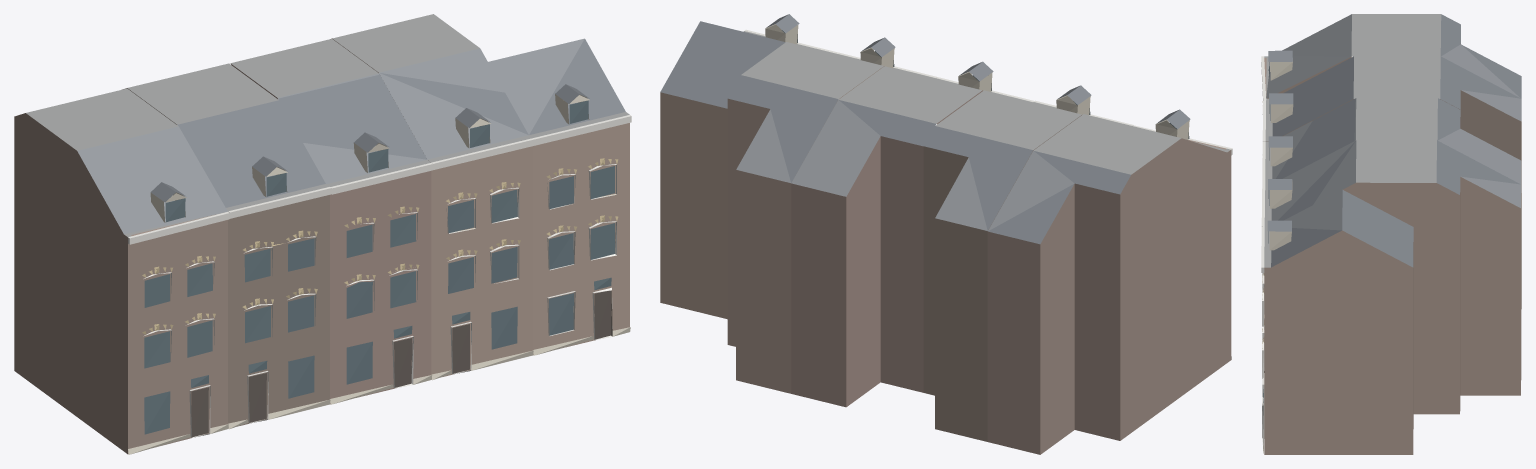
The model's file is chunk-face-badlaan-1-21-r1.lod2.glb.
The picture shows the model from 3 angles, left to right: view 1: azimuth 30°, elevation 25°; view 2: azimuth 150°, elevation 25°; view 3: azimuth 270°, elevation 25°; orthographic projection. The views are drawn at different scales.
Visible parts, largest first — view 1: lod2; view 2: lod2; view 3: lod2.
Boxes of the visible parts, <box> form: lod2: <box>14,14,631,454</box>; lod2: <box>660,14,1232,454</box>; lod2: <box>1261,14,1521,454</box>.
Bounding box in the file's own units: 29.14 × 14.87 × 15.17.
